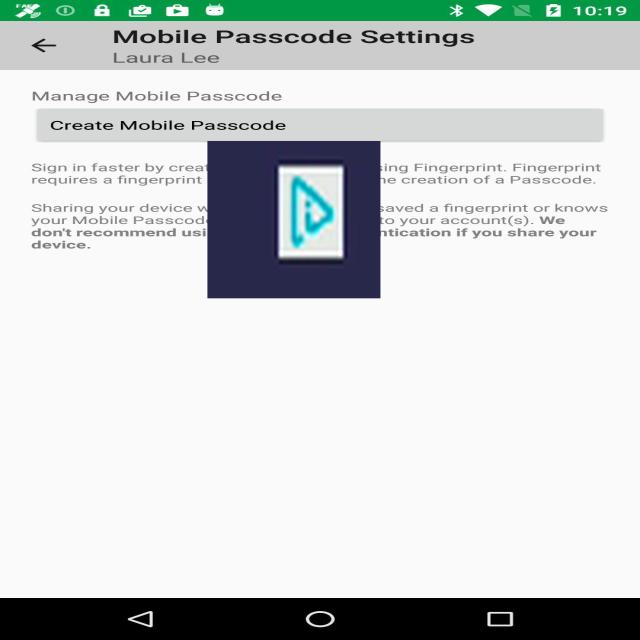sneaking: (208, 141, 380, 298)
